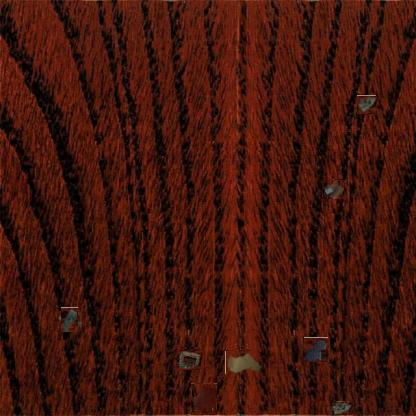dirty: (225, 350, 262, 374), (178, 348, 200, 370), (59, 309, 80, 331), (322, 179, 344, 199), (357, 95, 376, 113), (330, 401, 352, 415)
liquid: (191, 383, 217, 415), (304, 338, 329, 362)
